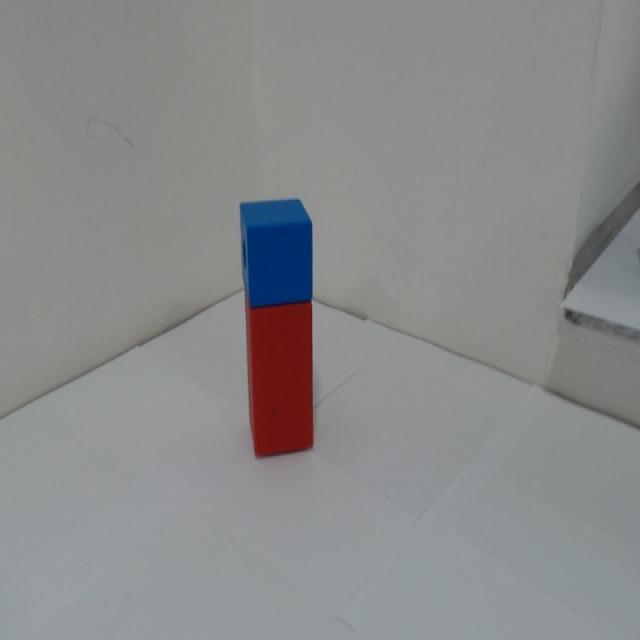cube: (226, 186, 335, 310)
